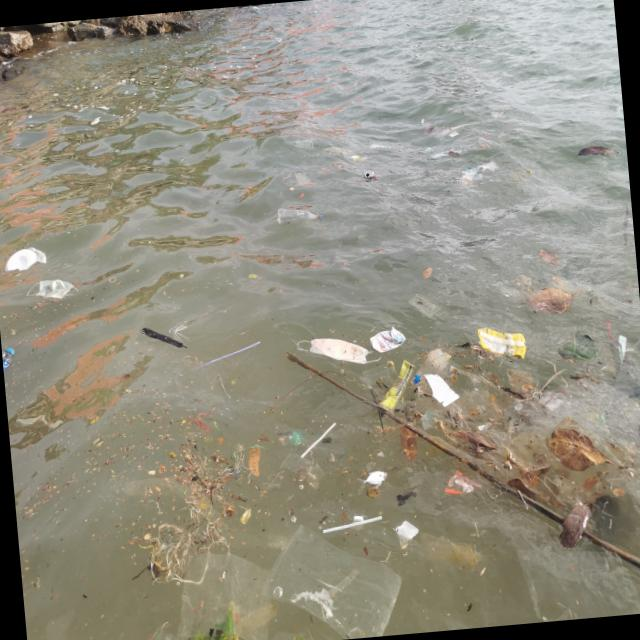can: (362, 169, 376, 180)
foam: (4, 245, 46, 274)
plastic: (276, 204, 324, 228), (1, 346, 18, 382)
plastic bottle: (262, 516, 407, 640), (170, 543, 289, 640), (517, 540, 639, 624), (417, 526, 483, 576), (378, 358, 420, 409), (280, 448, 326, 492), (478, 320, 526, 362), (500, 426, 544, 470), (408, 351, 451, 390), (298, 420, 338, 459), (424, 368, 461, 408), (320, 514, 384, 533), (406, 291, 444, 319), (360, 360, 398, 388), (444, 469, 480, 496), (506, 366, 535, 399), (458, 162, 498, 185), (394, 520, 418, 548), (284, 168, 314, 190), (274, 428, 302, 446), (616, 334, 629, 365), (428, 148, 462, 159), (292, 137, 314, 151), (448, 130, 459, 137)
unknow: (170, 447, 228, 522), (294, 327, 380, 370), (552, 326, 604, 364), (26, 276, 78, 301), (368, 324, 408, 354), (360, 468, 387, 488), (426, 124, 434, 134)
